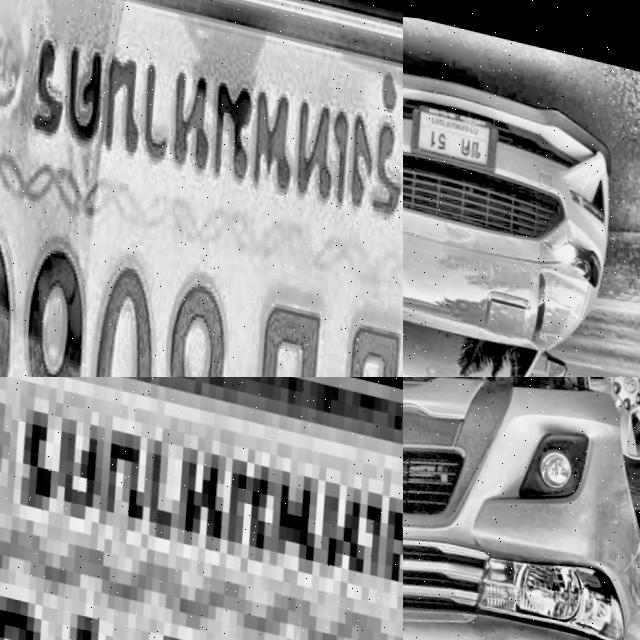license-plate: (0, 0, 403, 377), (0, 377, 403, 640), (407, 88, 499, 166)
